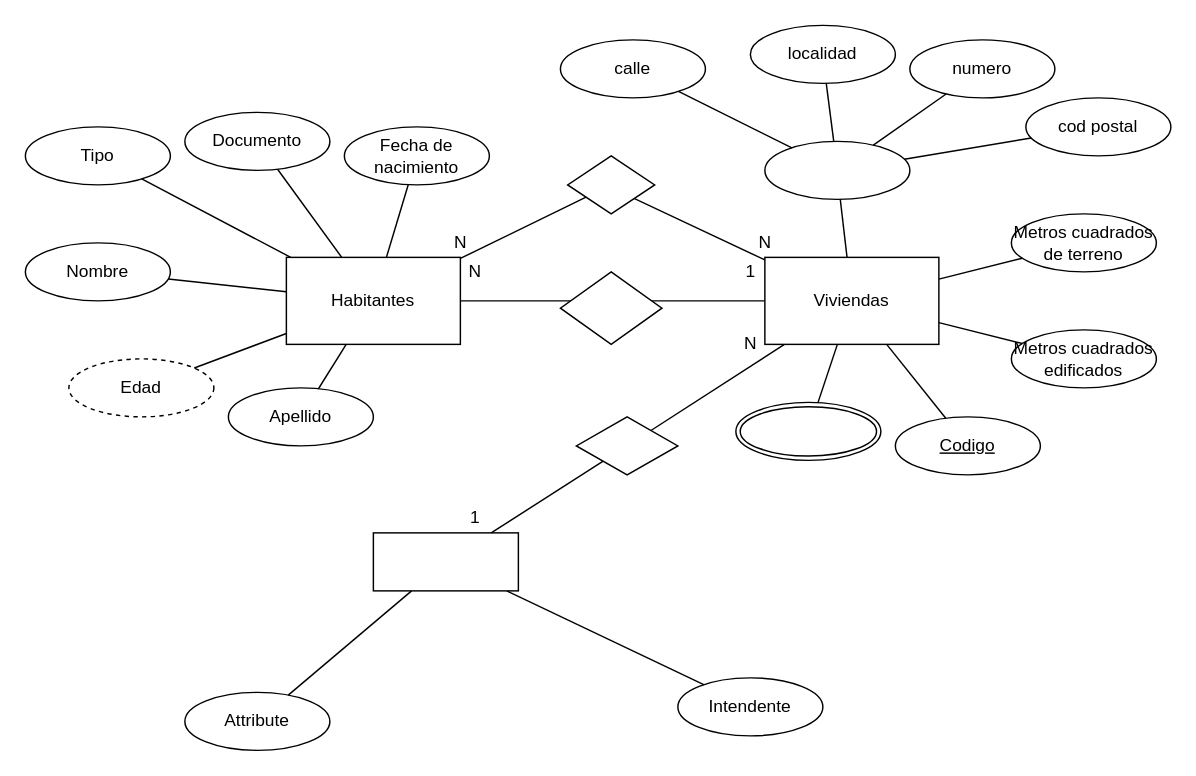
Image size: 1196x776. Some labels were removed from this diagram. The shapes that lost their labels are listed below. From the top down, each one's centre as x and y in pixels, then its label:
At (610,184): "Propietario".
At (836,169): "Direccion".
At (610,307): "Vive".
At (626,445): "Pertenece a".
At (807,430): "Propietarios".
At (445,561): "Municipio".
